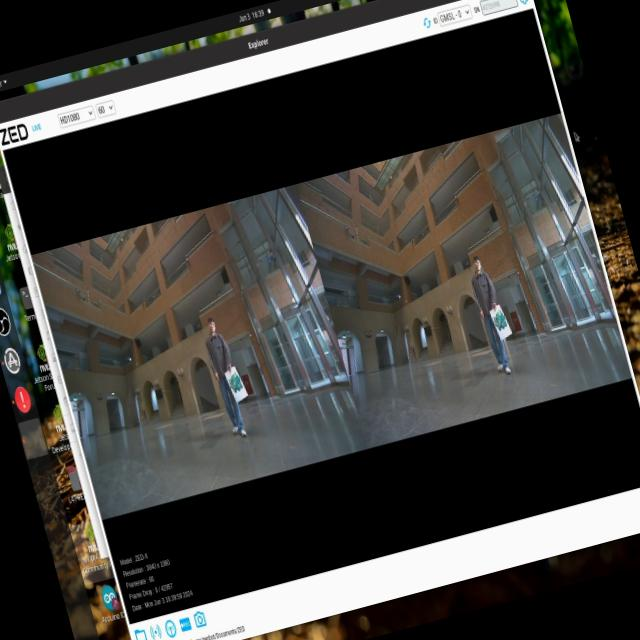green: (228, 366, 248, 408), (489, 305, 509, 337)
